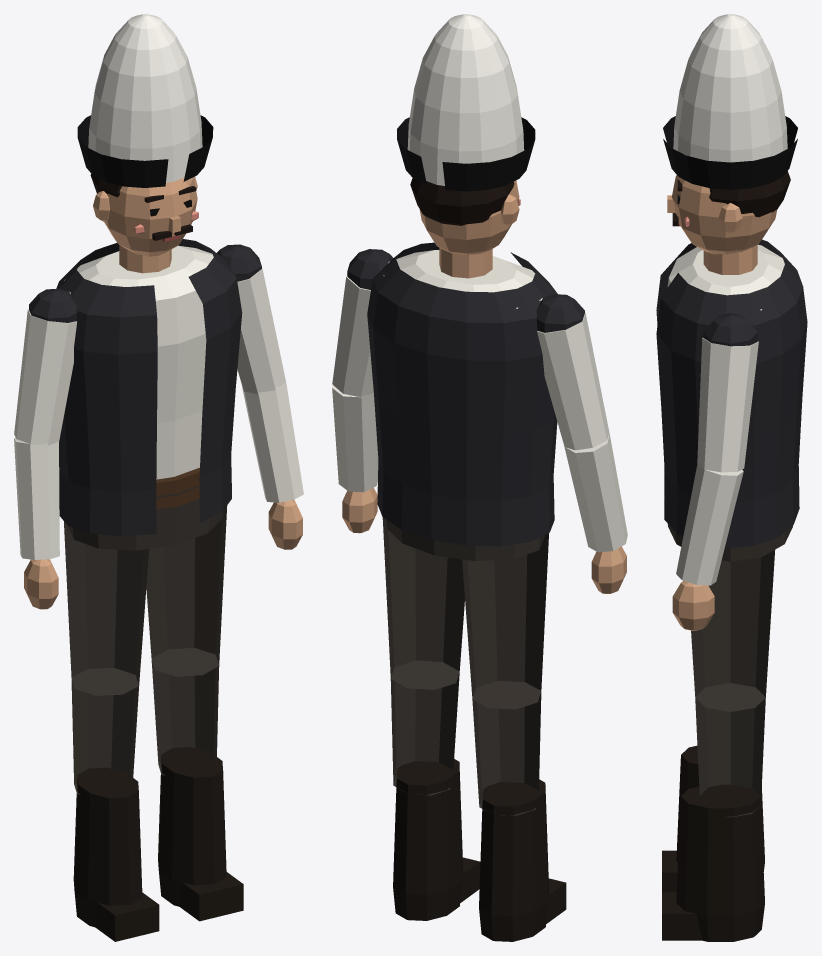
File: Villager_Baike.obj
3 views of the same model, side by side, from view 1: azimuth 30°, elevation 25°; view 2: azimuth 150°, elevation 25°; view 3: azimuth 270°, elevation 25° (orthographic).
Parts seen in each view (by area): view 1: Villager_Baike; view 2: Villager_Baike; view 3: Villager_Baike.
Part boxes in pixels (bbox=[...]): Villager_Baike: bbox=[14, 14, 303, 941]; Villager_Baike: bbox=[332, 14, 627, 941]; Villager_Baike: bbox=[656, 14, 807, 941].
Bounding box in the file's own units: 0.6638 × 2.01 × 0.3079.
